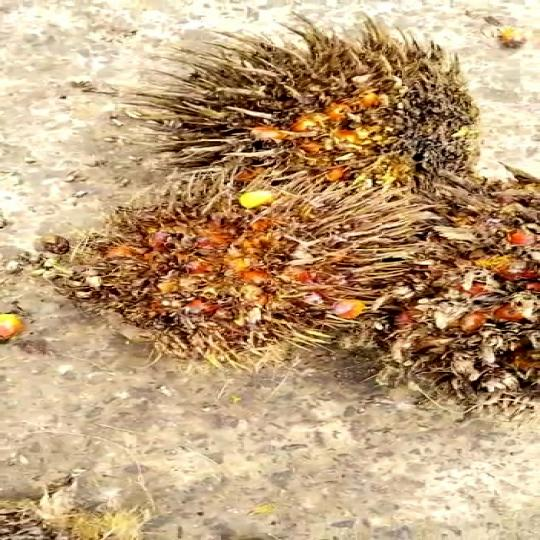terlalu masak: (122, 35, 490, 212), (33, 184, 400, 351)
